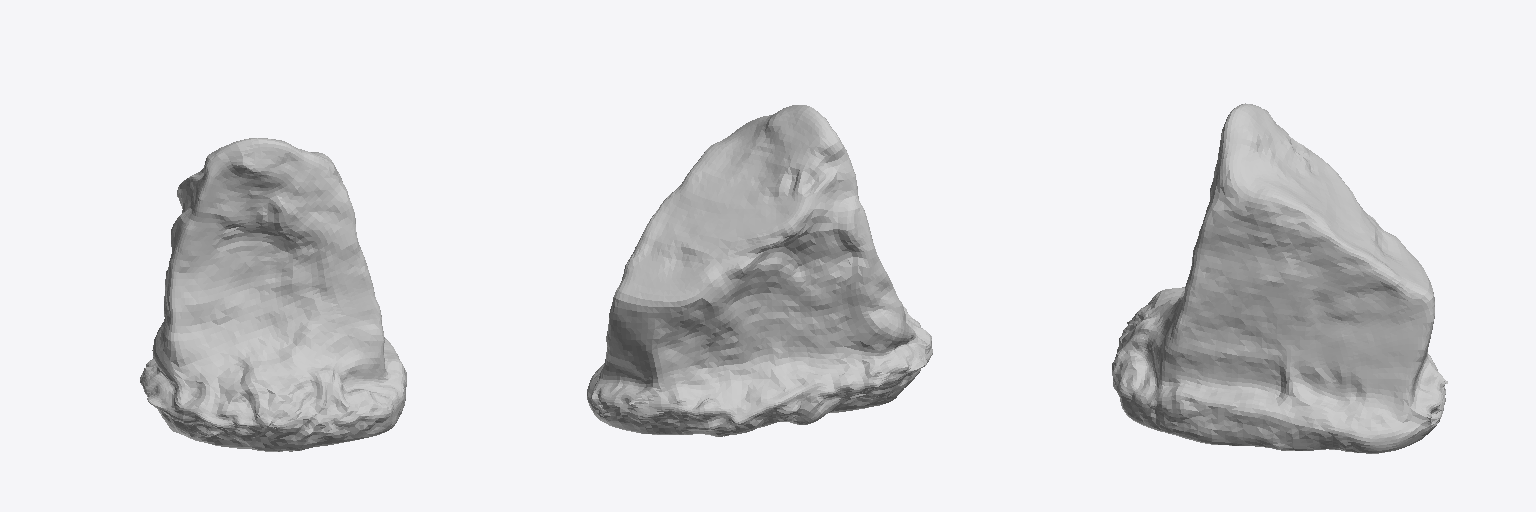
File: 992468c779f2_Moss_growing_on_a_r.obj
3 views of the same model, side by side, from view 1: azimuth 30°, elevation 25°; view 2: azimuth 150°, elevation 25°; view 3: azimuth 270°, elevation 25° (orthographic).
Parts seen in each view (by area): view 1: mesh; view 2: mesh; view 3: mesh.
Boxes of the visible parts, <box> form: mesh: <box>140,138,406,451</box>; mesh: <box>587,105,932,436</box>; mesh: <box>1112,103,1447,453</box>.
Size of the model in its own units: 0.8955 by 0.8934 by 0.9895.